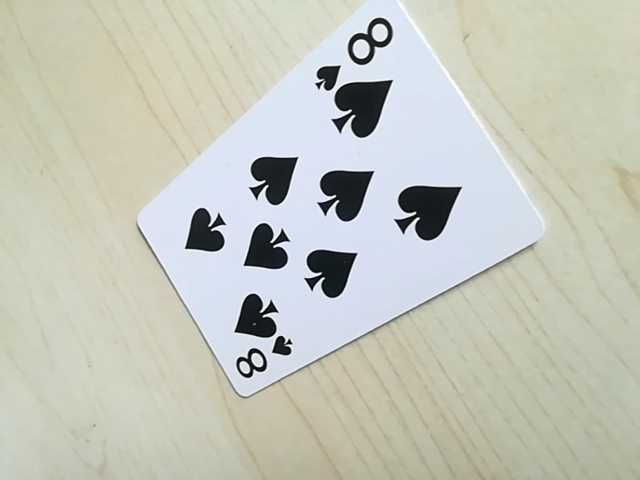ht 8: (310, 10, 397, 94), (228, 334, 294, 389)
